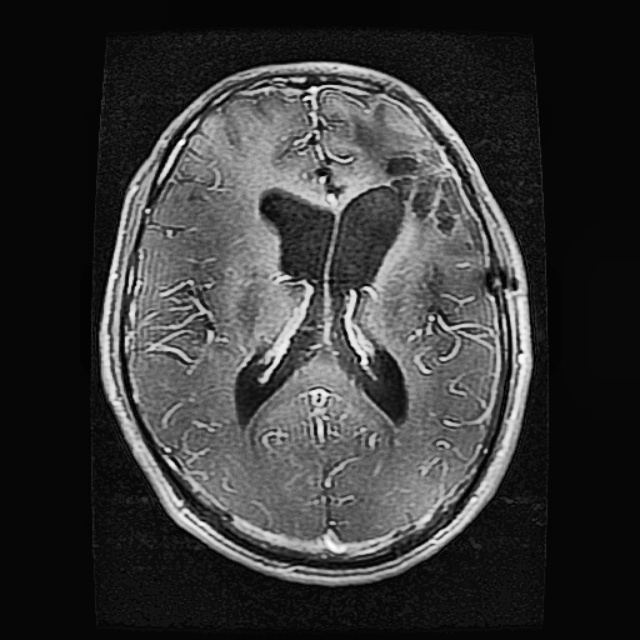Glioma: (384, 144, 460, 232)
